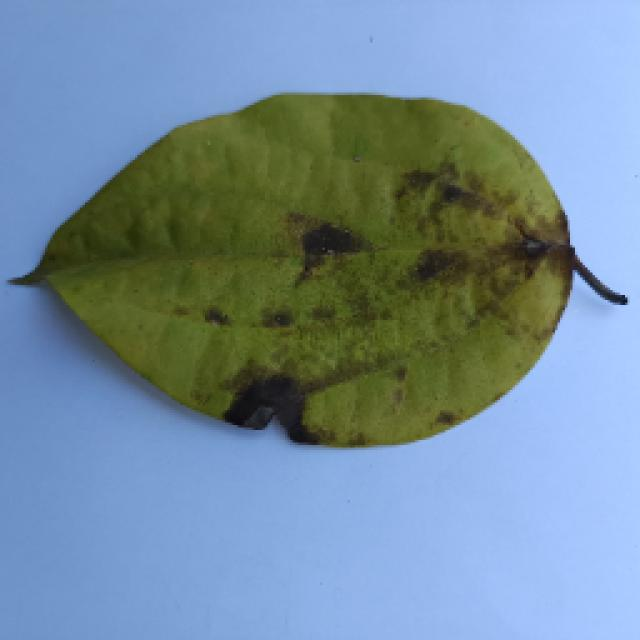slow-decline: (0, 80, 622, 467)
